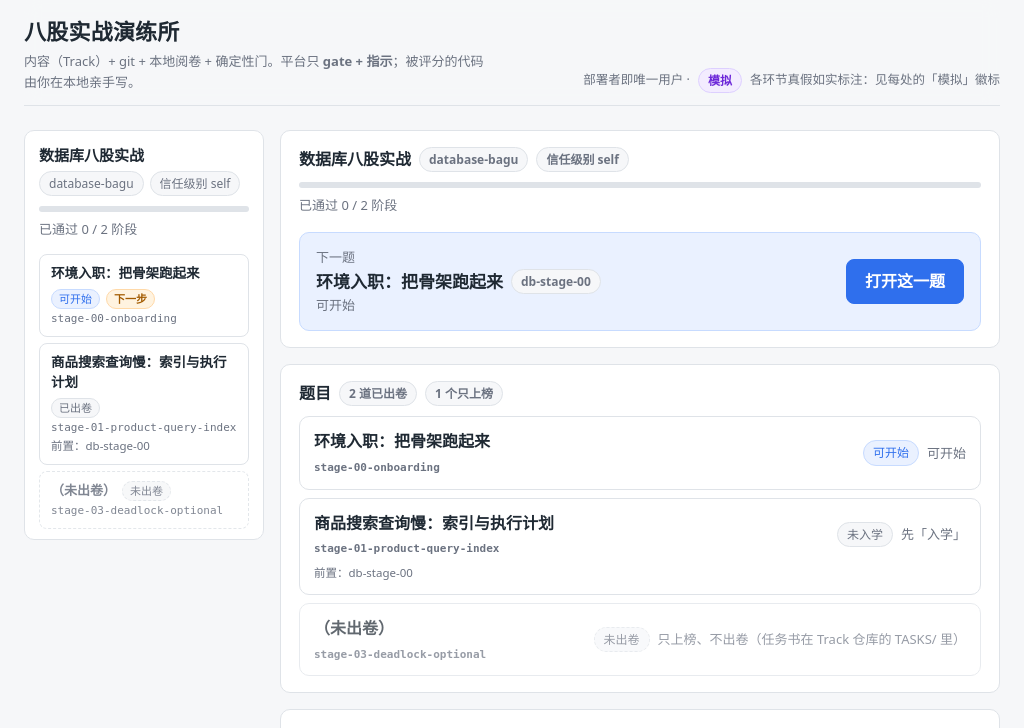
Test: 实例已经不在后端了 › 顺手刷新看板并清掉选中项（那个实例是个幻影，留着只会再 404）
Click the button with test id "stage-stage-00-onboarding" at x=144, y=296, box x1=39 y1=254 x2=249 y2=337
(page scrolled)
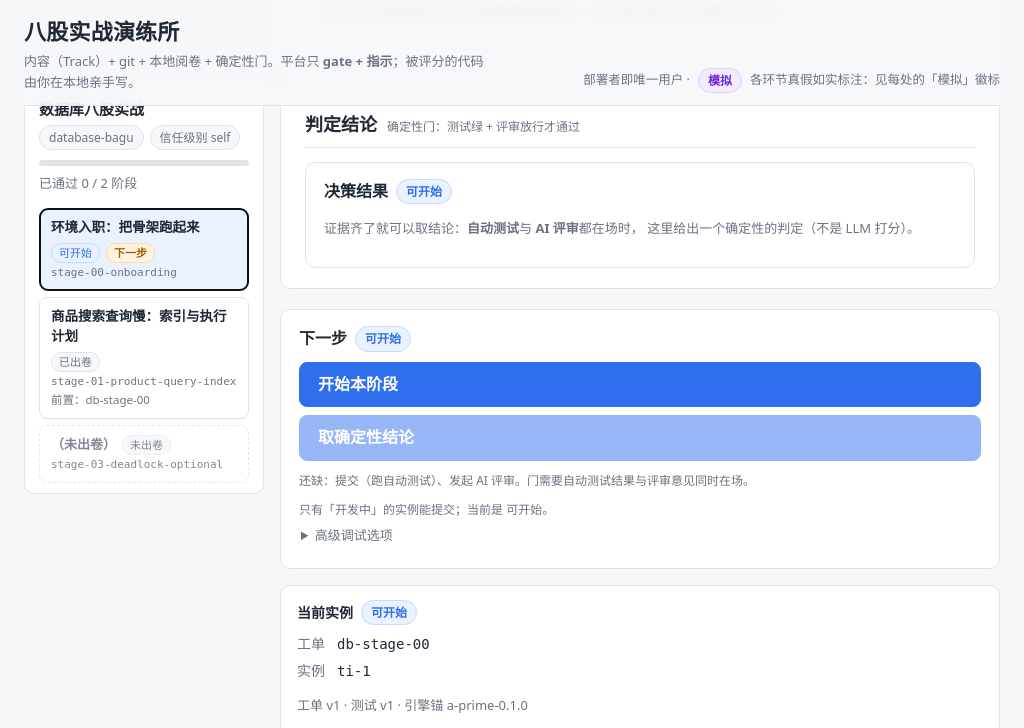
Click the button "开始本阶段" at x=358, y=384, box x1=299 y1=362 x2=981 y2=408
(page scrolled)
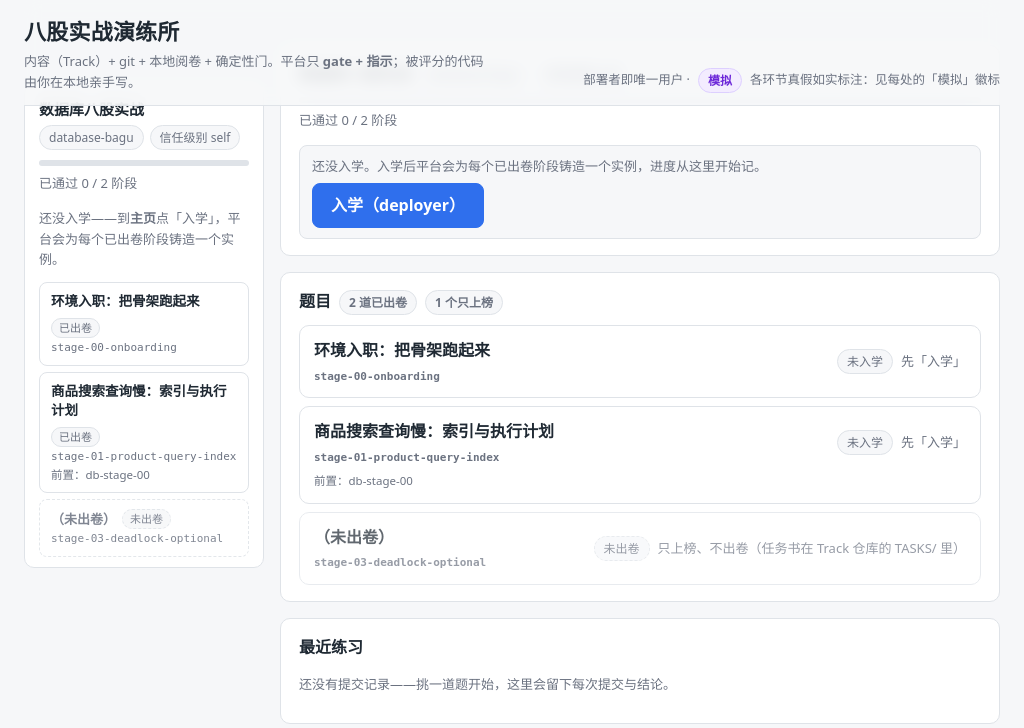
Check: the element with test id "home-view" is shown
